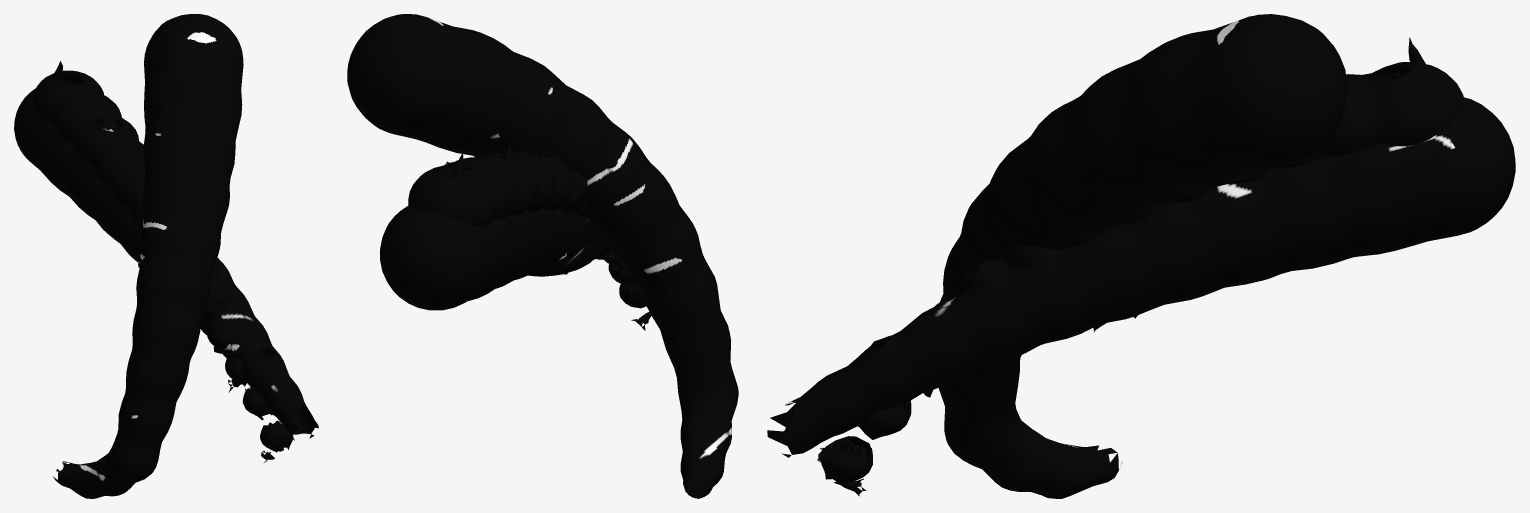
File: CurseTails.obj
3 views of the same model, side by side, from view 1: azimuth 30°, elevation 25°; view 2: azimuth 150°, elevation 25°; view 3: azimuth 270°, elevation 25° (orthographic). The views are drawn at different scales.
Visible parts, largest first — view 1: HuskTail_Skin, BladeTail_Skin, BoneTail_Bone, BoneTail_BoneDark; view 2: HuskTail_Skin, BladeTail_Skin, BoneTail_Bone, BladeTail_Claw, BoneTail_BoneDark; view 3: BladeTail_Skin, HuskTail_Skin, BoneTail_Bone.
Part boxes in pixels (x1,y1,x2,y2): HuskTail_Skin: [53, 14, 243, 498]; BladeTail_Skin: [14, 82, 318, 440]; BoneTail_Bone: [32, 70, 293, 452]; BoneTail_BoneDark: [52, 61, 274, 462]; HuskTail_Skin: [347, 14, 738, 498]; BladeTail_Skin: [380, 205, 616, 310]; BoneTail_Bone: [408, 150, 646, 308]; BladeTail_Claw: [528, 244, 602, 276]; BoneTail_BoneDark: [452, 145, 651, 330]; BladeTail_Skin: [767, 97, 1515, 457]; HuskTail_Skin: [938, 14, 1347, 498]; BoneTail_Bone: [817, 62, 1464, 483].
Bounding box in the file's own units: 1.43 × 2.24 × 2.52.
8 materials, 8 textured.
